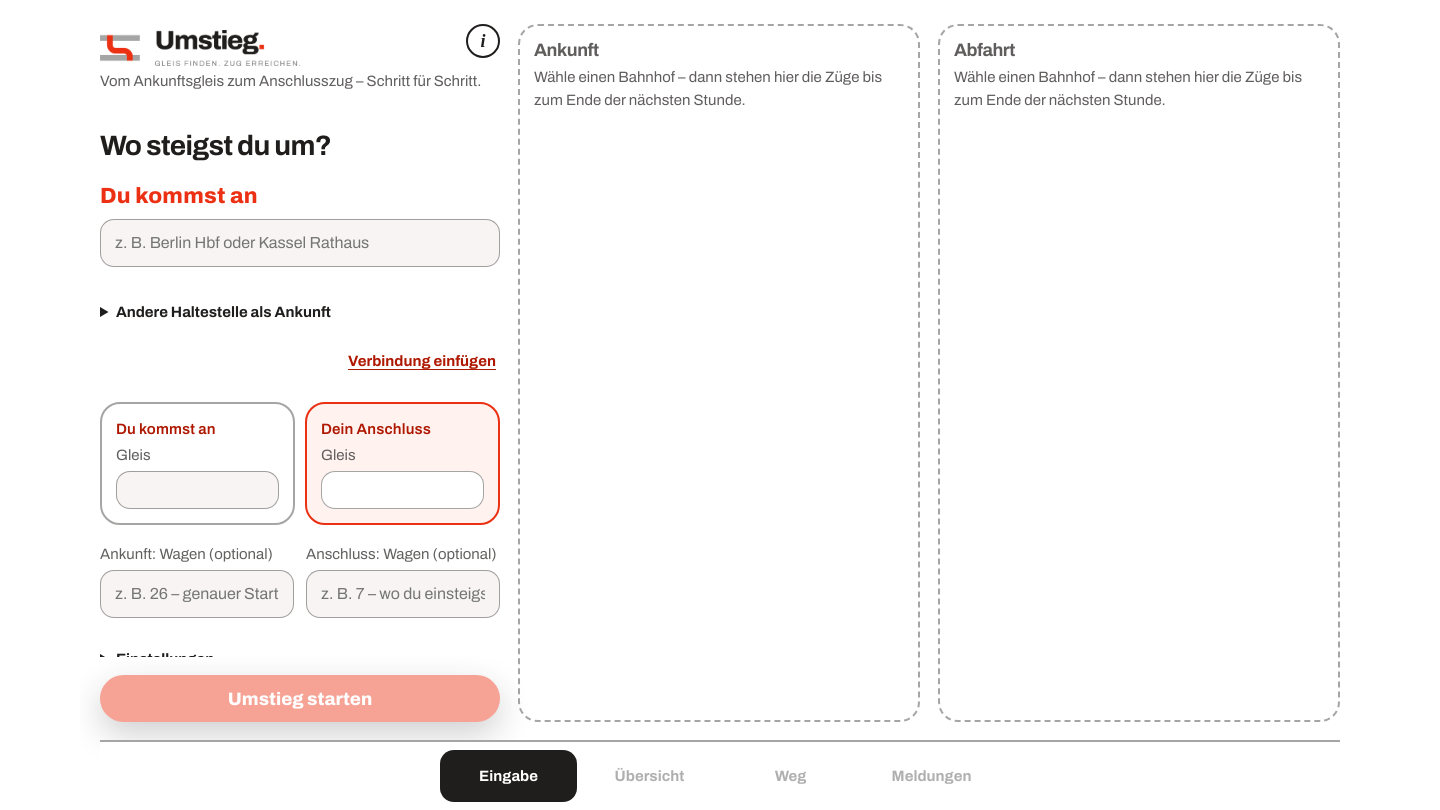
Test case: App: die Uebersicht › steht in der Spalte, die nur innen rollt
Type "Leip" into the field named "Ankunft: Bahnhof oder Haltestelle" at (300, 243), box x1=100 y1=219 x2=500 y2=267
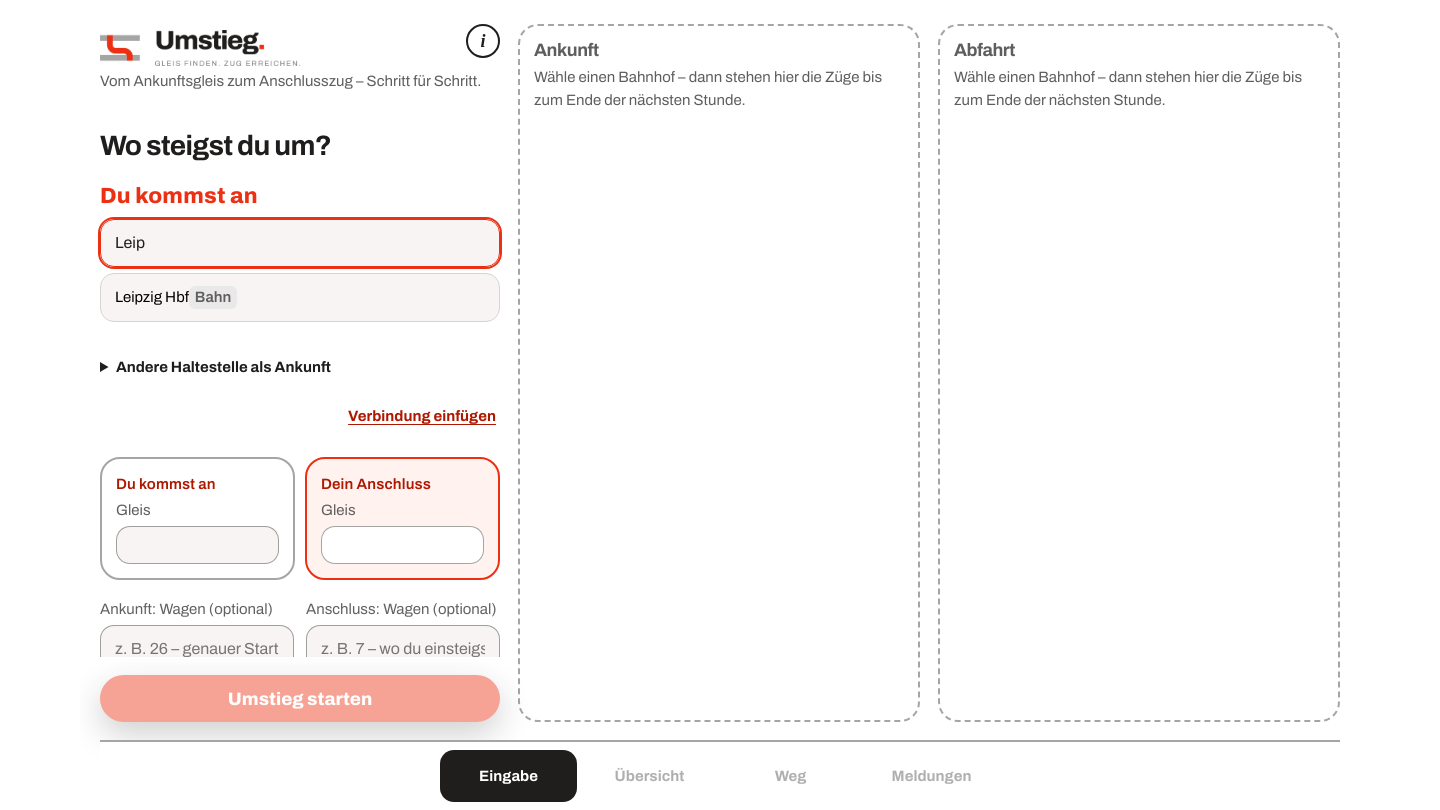
Click the button "Leipzig Hbf Bahn" at (152, 297), box x1=101 y1=274 x2=499 y2=321
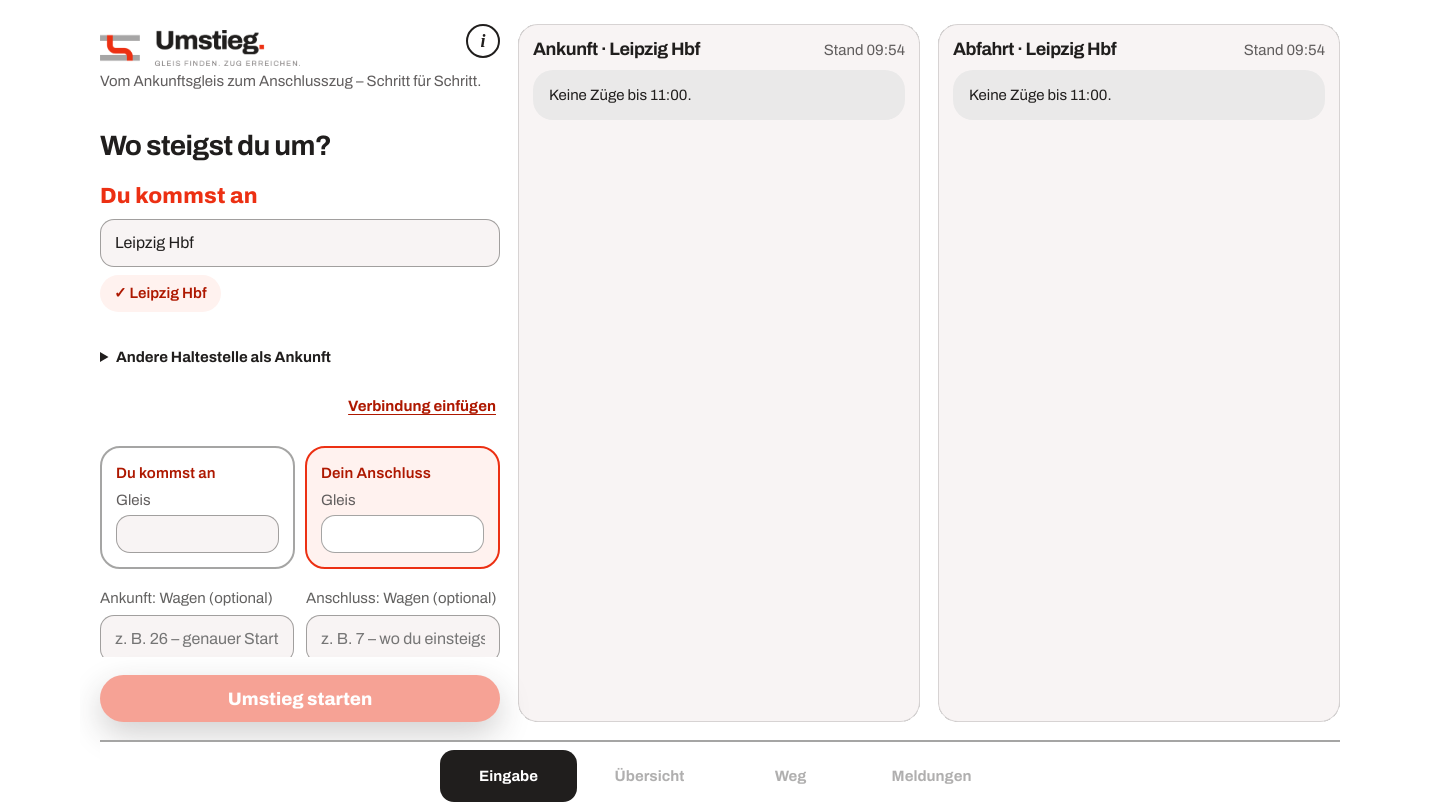
Type "6" into the field named "Ankunft: Gleis" at (198, 534), box x1=116 y1=515 x2=279 y2=553
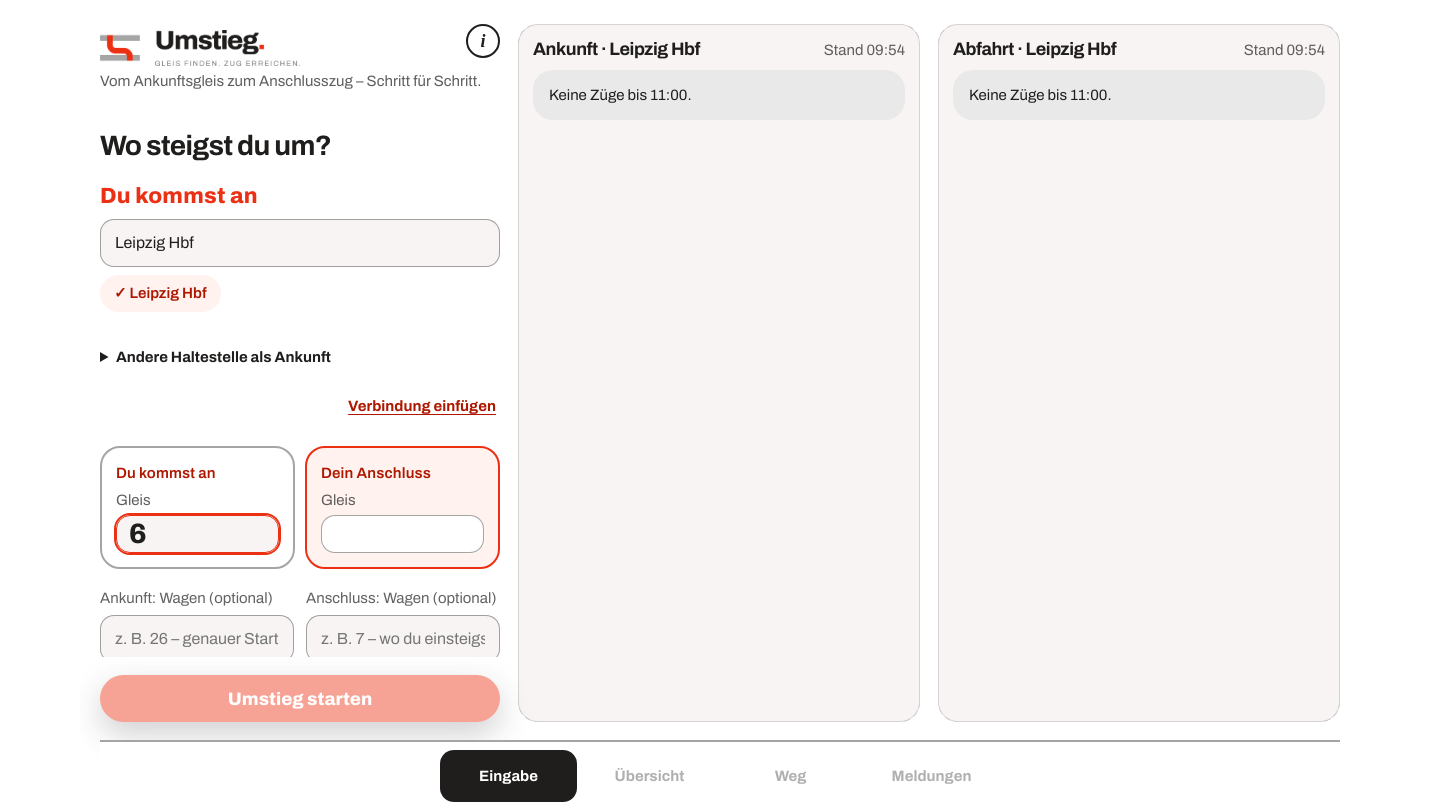
Type "16" into the field named "Anschluss: Gleis" at (402, 534), box x1=321 y1=515 x2=484 y2=553
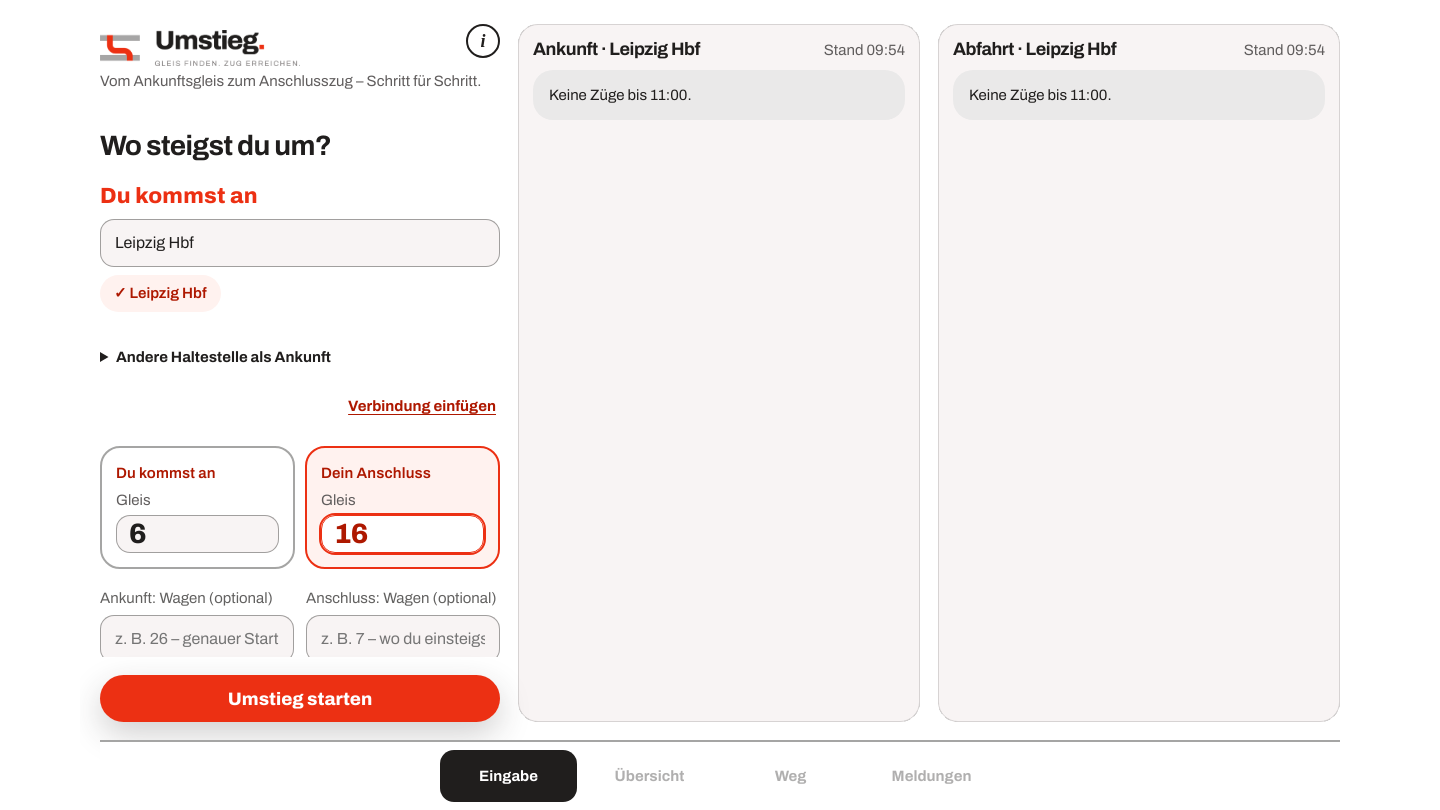
Click the button "Umstieg starten" at (300, 698), box x1=100 y1=675 x2=500 y2=722
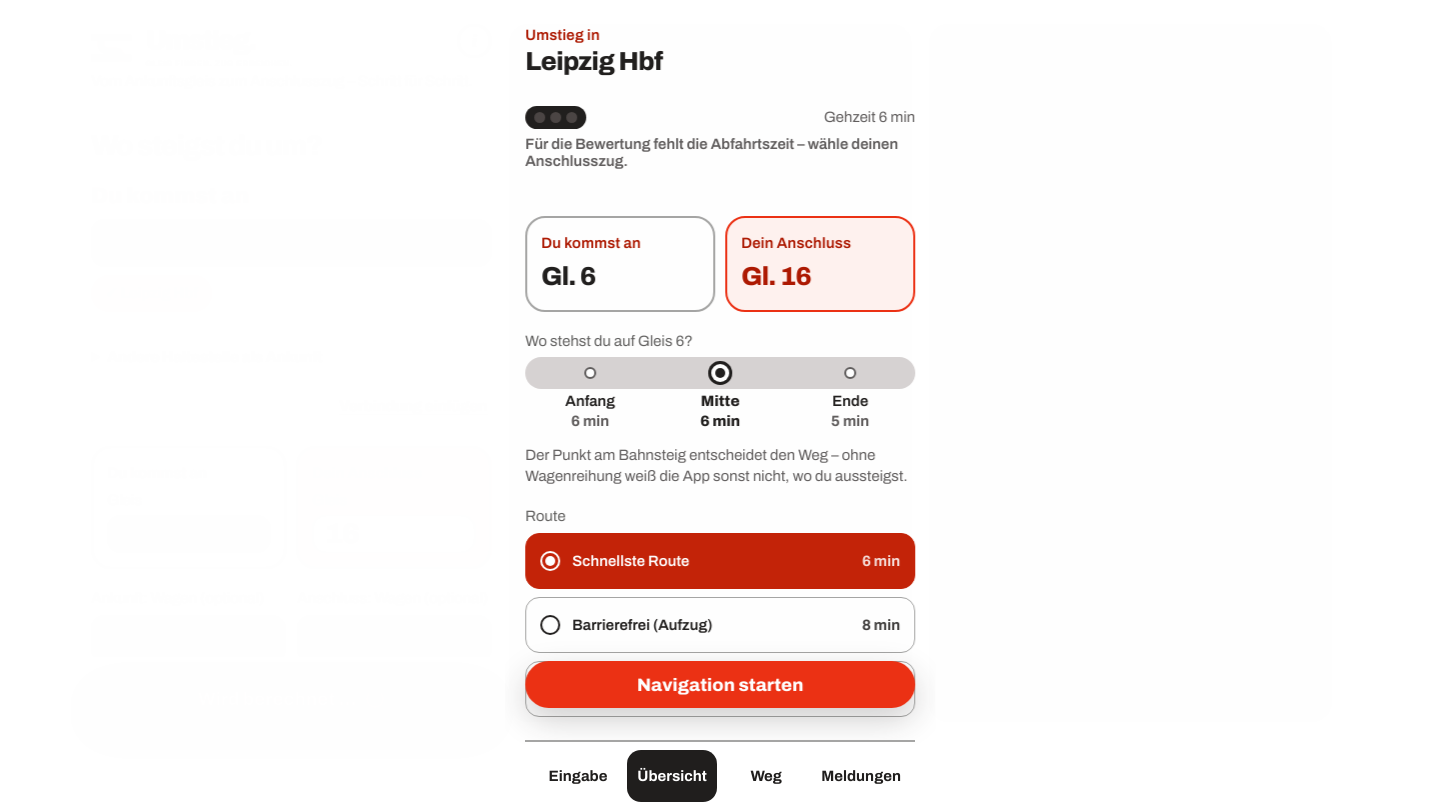
Expected: the element with class "app-dashboard" is shown, x1=505 y1=0 x2=935 y2=809
Expected: the text "Gehzeit 6 min" is shown, x1=824 y1=109 x2=915 y2=125
